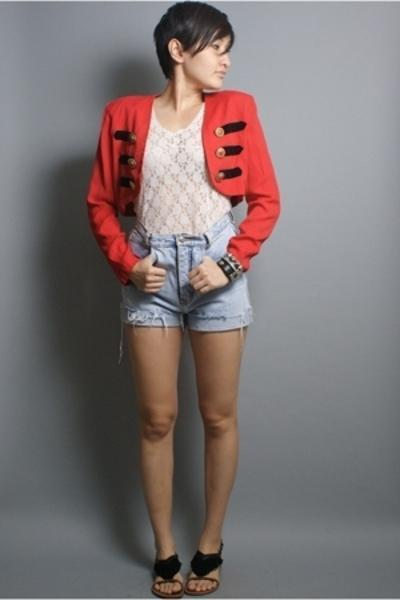jacket: (87, 91, 279, 269)
shirt: (138, 111, 229, 244)
shoe: (151, 544, 223, 599)
shorts: (122, 209, 251, 332)
